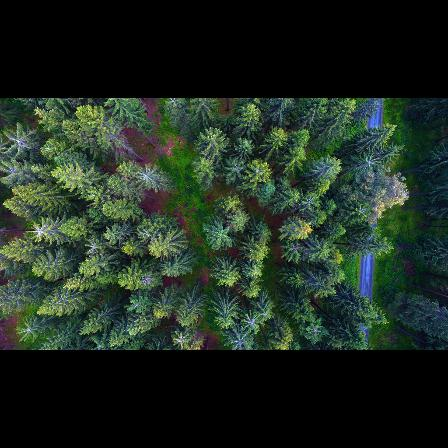Sick: (2, 126, 38, 158), (354, 148, 382, 171), (26, 218, 50, 243), (135, 164, 159, 188)
